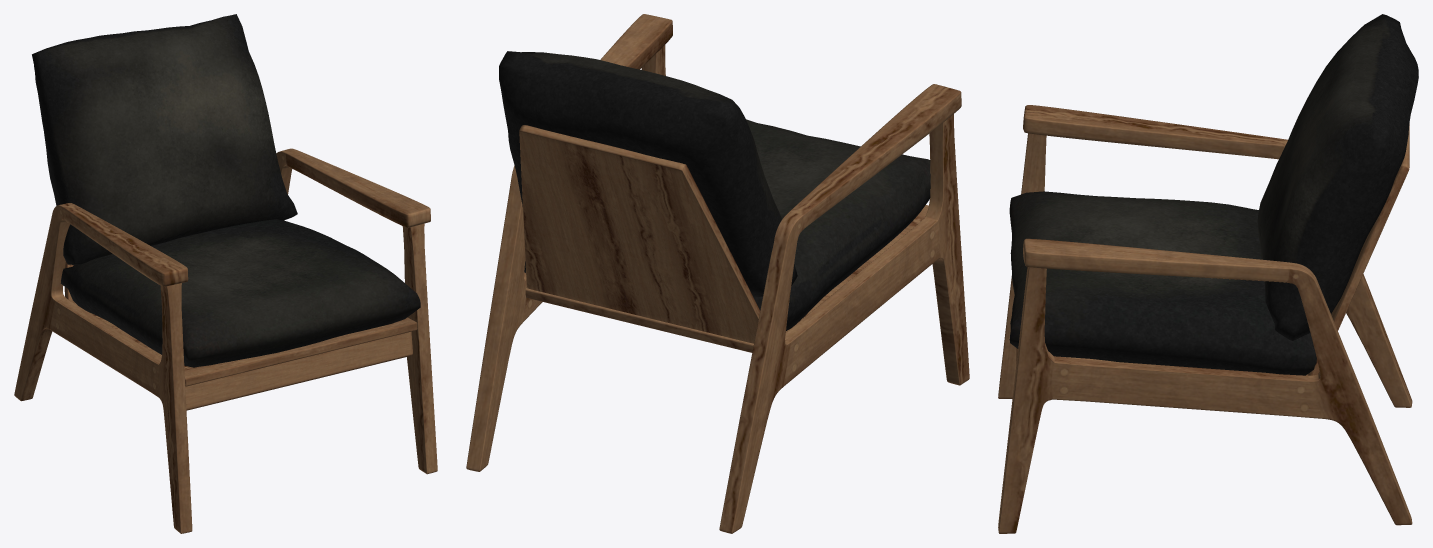
The model's file is modern_arm_chair.glb.
The picture shows the model from 3 angles, left to right: view 1: azimuth 30°, elevation 25°; view 2: azimuth 150°, elevation 25°; view 3: azimuth 270°, elevation 25°; orthographic projection. The views are drawn at different scales.
Visible parts, largest first — view 1: modern_arm_chair_01_0; view 2: modern_arm_chair_01_0; view 3: modern_arm_chair_01_0.
Boxes of the visible parts, x1,y1,x2,y2 form: modern_arm_chair_01_0: (14, 14, 437, 533); modern_arm_chair_01_0: (466, 14, 969, 533); modern_arm_chair_01_0: (998, 14, 1418, 533).
Bounding box in the file's own units: 0.8203 × 1.02 × 0.9866.
Materials: 2 (2 with a texture image).
